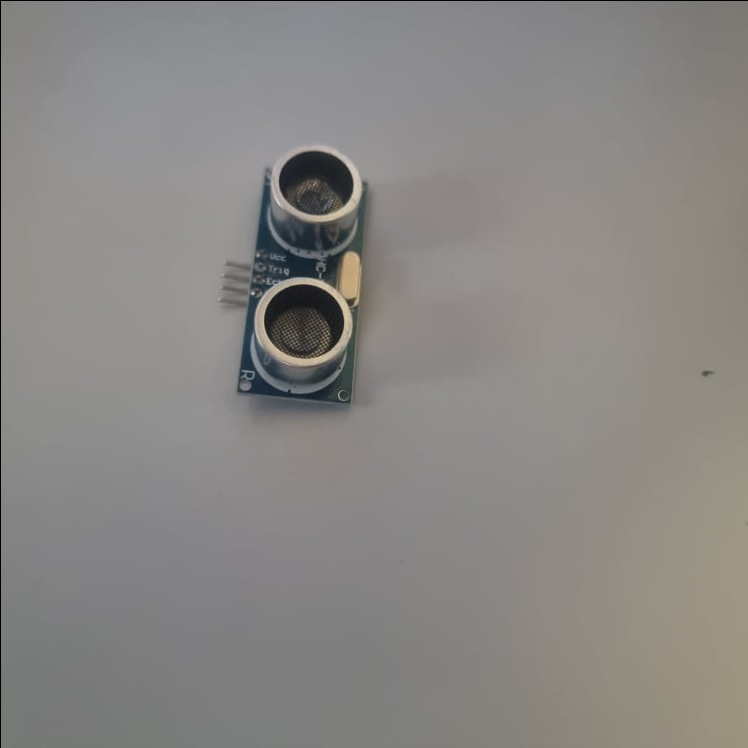SENSOR: (231, 141, 371, 405)
